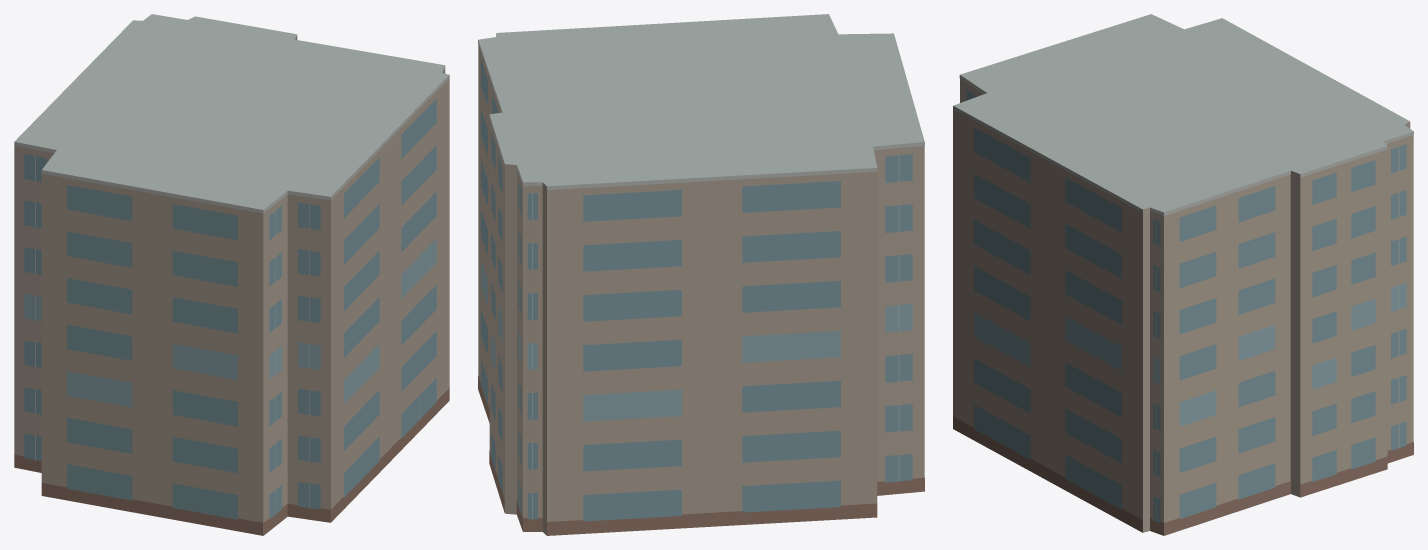
File: survey-upis-33043572.glb
3 views of the same model, side by side, from view 1: azimuth 30°, elevation 25°; view 2: azimuth 150°, elevation 25°; view 3: azimuth 270°, elevation 25° (orthographic). The views are drawn at different scales.
Visible parts, largest first — view 1: survey-upis-33043572.tmp; view 2: survey-upis-33043572.tmp; view 3: survey-upis-33043572.tmp.
Part boxes in pixels (<box>): survey-upis-33043572.tmp: <box>14,14,449,535</box>; survey-upis-33043572.tmp: <box>478,14,924,535</box>; survey-upis-33043572.tmp: <box>953,14,1413,535</box>.
Size of the model in its own units: 29.1 by 22.1 by 28.54.
